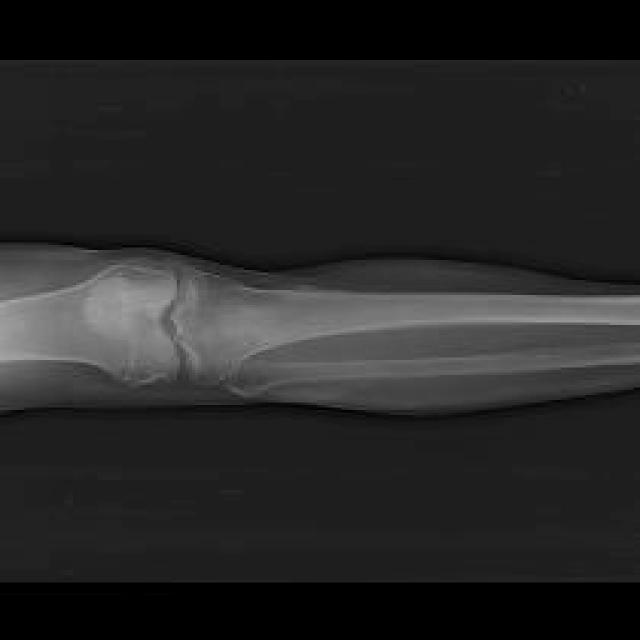normal: (169, 267, 639, 384), (223, 344, 640, 398), (1, 265, 180, 384)
